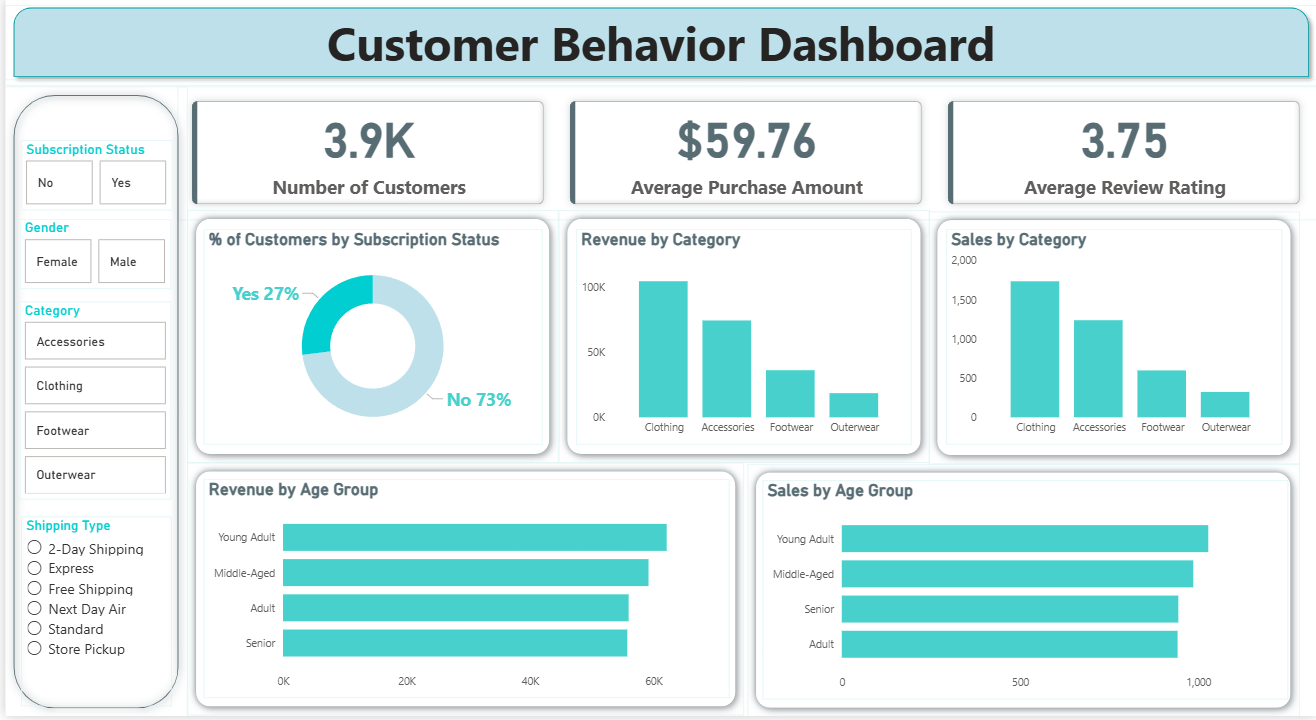

The page's visual inventory and layout, read from the dashboard file:
{"tool":"powerbi","page":{"name":"Page 1","canvas":[1500,820],"ordinal":0},"visuals":[{"type":"cardVisual","fields":{"Data":["customer_behaviour customer_data.number_of_customers","customer_behaviour customer_data.average_purchase_amount","customer_behaviour customer_data.average_review_rating"]},"box":[197.6,99.5,1302.7,152.6],"z":0},{"type":"shape","box":[0,0,1500.3,99.5],"z":1000},{"type":"textbox","box":[0,6.8,1500.3,85.8],"z":2000},{"type":"shape","box":[208.5,241.2,423.8,288.9],"z":3000},{"type":"donutChart","title":"% of Customers by Subscription Status","fields":{"Category":["customer_behaviour customer_data.subscription_status"],"Y":["CountNonNull(customer_behaviour customer_data.customer_id)"]},"box":[227.6,263,387,246.6],"z":4000},{"type":"shape","box":[632.3,241.2,423.8,288.9],"z":5000},{"type":"shape","box":[1056.1,242.6,423.8,288.9],"z":6000},{"type":"clusteredColumnChart","title":"Revenue by Category","fields":{"Y":["Sum(customer_behaviour customer_data.purchase_amount)"],"Category":["customer_behaviour customer_data.category"]},"box":[652.7,263,382.9,246.6],"z":7000},{"type":"clusteredColumnChart","title":"Sales by Category","fields":{"Y":["CountNonNull(customer_behaviour customer_data.customer_id)"],"Category":["customer_behaviour customer_data.category"]},"box":[1075.1,263,384.3,246.6],"z":8000},{"type":"shape","box":[0,99.5,208.5,720.8],"z":9000},{"type":"advancedSlicerVisual","title":"Subscription Status","fields":{"Values":["customer_behaviour customer_data.subscription_status"]},"box":[19.1,160.8,173.1,80.4],"z":10000},{"type":"advancedSlicerVisual","title":"Gender","fields":{"Values":["customer_behaviour customer_data.gender"]},"box":[17.7,252.1,173.1,80.4],"z":11000},{"type":"advancedSlicerVisual","title":"Category","fields":{"Values":["customer_behaviour customer_data.category"]},"box":[17.7,346.1,173.1,226.2],"z":12000},{"type":"listSlicer","title":"Shipping Type","fields":{"Values":["customer_behaviour customer_data.shipping_type"]},"box":[19.1,591.4,171.7,216.7],"z":13000},{"type":"shape","box":[208.5,530.1,636.4,288.9],"z":14000},{"type":"clusteredBarChart","title":"Revenue by Age Group","fields":{"Y":["Sum(customer_behaviour customer_data.purchase_amount)"],"Category":["customer_behaviour customer_data.age_group"]},"box":[227.6,549.1,600.9,250.7],"z":15000},{"type":"shape","box":[848.9,531.4,630.9,288.9],"z":16000},{"type":"clusteredBarChart","title":"Sales by Age Group","fields":{"Y":["CountNonNull(customer_behaviour customer_data.customer_id)"],"Category":["customer_behaviour customer_data.age_group"]},"box":[865.3,550.5,600.9,250.7],"z":17000}]}

Visuals, with their boxes in screenshot pixels (x1, y1, x2, y2), scaled from the page's 1500x820 canvas onto the 1316x720 screenshot:
cardVisual - customer_behaviour customer_data.number_of_customers x customer_behaviour customer_data.average_purchase_amount: <bbox>173, 87, 1315, 221</bbox>
shape: <bbox>0, 0, 1315, 87</bbox>
textbox: <bbox>0, 6, 1315, 81</bbox>
shape: <bbox>183, 212, 555, 465</bbox>
"% of Customers by Subscription Status" donutChart: <bbox>200, 231, 539, 447</bbox>
shape: <bbox>555, 212, 927, 465</bbox>
shape: <bbox>927, 213, 1298, 467</bbox>
"Revenue by Category" clusteredColumnChart: <bbox>573, 231, 909, 447</bbox>
"Sales by Category" clusteredColumnChart: <bbox>943, 231, 1280, 447</bbox>
shape: <bbox>0, 87, 183, 719</bbox>
"Subscription Status" advancedSlicerVisual: <bbox>17, 141, 169, 212</bbox>
"Gender" advancedSlicerVisual: <bbox>16, 221, 167, 292</bbox>
"Category" advancedSlicerVisual: <bbox>16, 304, 167, 503</bbox>
"Shipping Type" listSlicer: <bbox>17, 519, 167, 710</bbox>
shape: <bbox>183, 465, 741, 719</bbox>
"Revenue by Age Group" clusteredBarChart: <bbox>200, 482, 727, 702</bbox>
shape: <bbox>745, 467, 1298, 719</bbox>
"Sales by Age Group" clusteredBarChart: <bbox>759, 483, 1286, 703</bbox>
